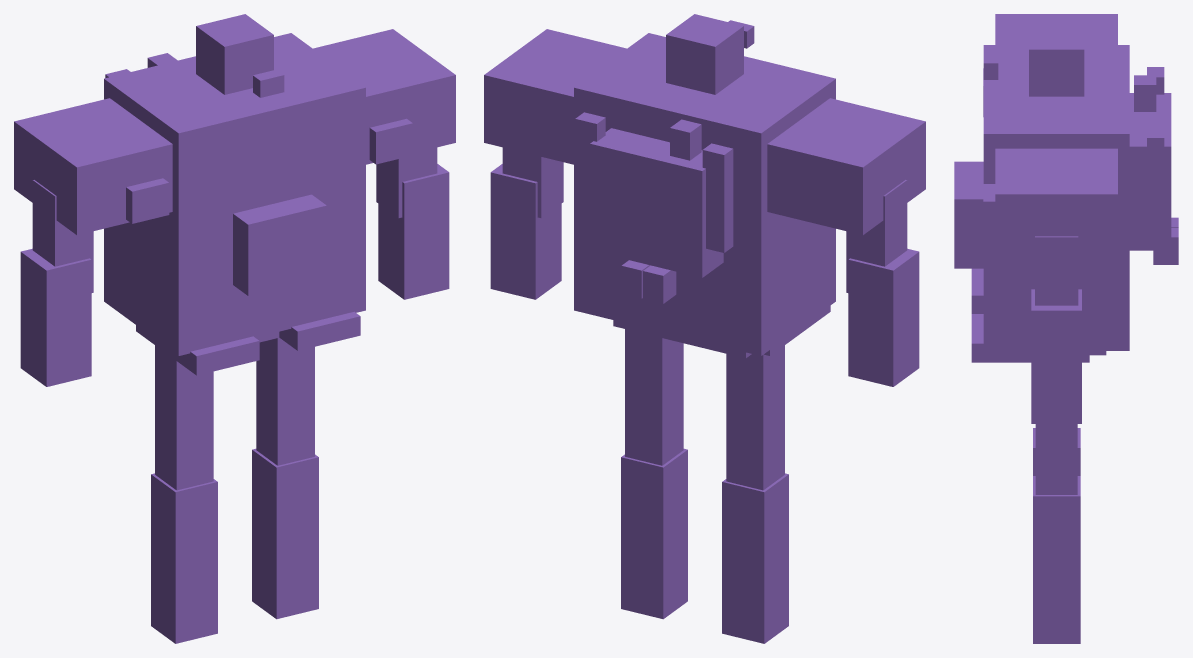
Rendered from mechfall_tone.obj.
The picture shows the model from 3 angles, left to right: view 1: azimuth 30°, elevation 25°; view 2: azimuth 150°, elevation 25°; view 3: azimuth 270°, elevation 25°; orthographic projection. The views are drawn at different scales.
Parts seen in each view (by area): view 1: mechfall_tone; view 2: mechfall_tone; view 3: mechfall_tone.
Boxes of the visible parts, left/top/right/bottom form: mechfall_tone: left=14, top=14, right=455, bottom=643; mechfall_tone: left=484, top=14, right=925, bottom=643; mechfall_tone: left=954, top=14, right=1178, bottom=643.
Size of the model in its own units: 5.22 by 7.27 by 2.59.
